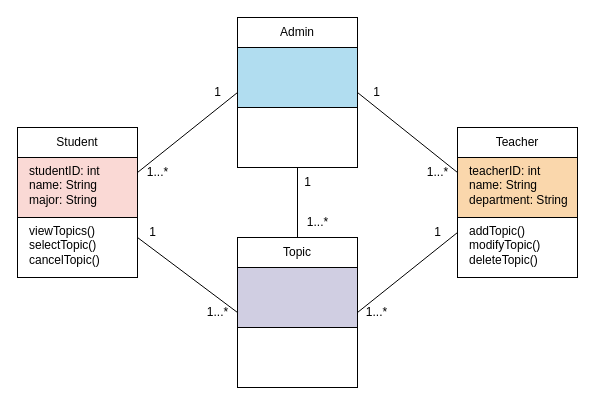
Some shapes in this 605 by 405 pixel diagram are drawn without their labels. The box of each missing label's shape, as (x1, y1, x2, y2) in pixels:
adminID: int name: String: (236, 46, 358, 108)
createTopic() updateTopic() deleteTopic(): (236, 326, 358, 388)
manageUsers() assignRoles(): (236, 106, 358, 168)
topicID: int title: String description: String: (236, 266, 358, 328)
